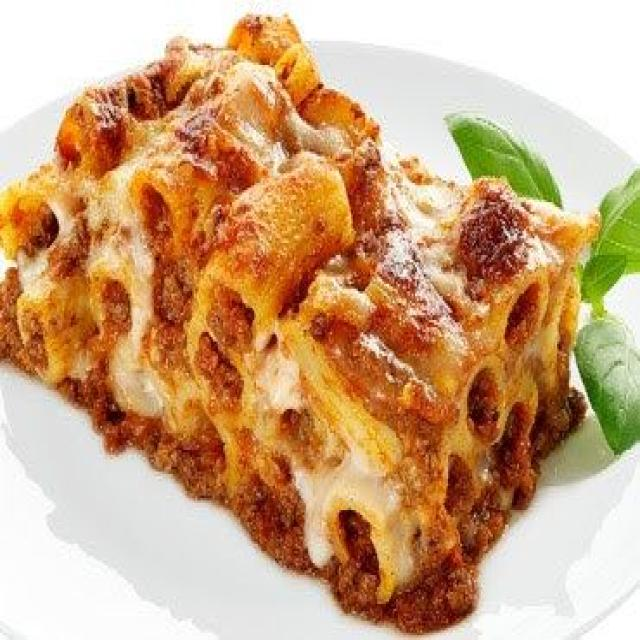Bechamel: (2, 2, 609, 640)
